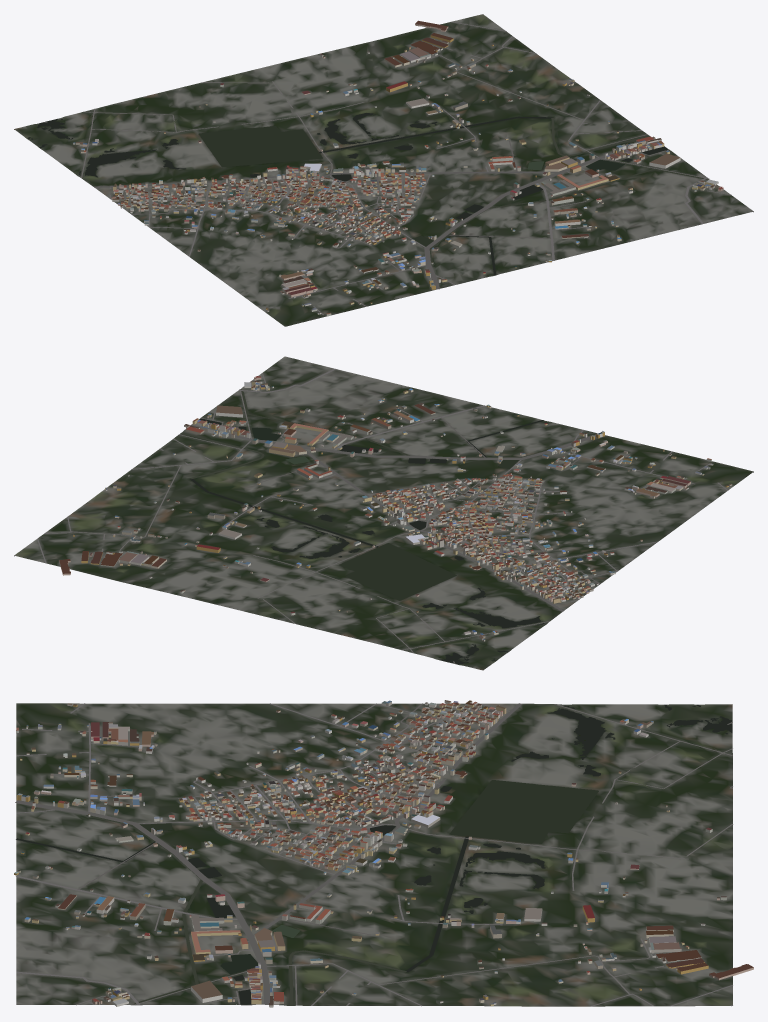
The picture shows the model from 3 angles, top to bottom: view 1: azimuth 30°, elevation 25°; view 2: azimuth 150°, elevation 25°; view 3: azimuth 270°, elevation 25°; orthographic projection. The views are drawn at different scales.
Parts seen in each view (by area): view 1: ground, buildings, water, roads; view 2: ground, buildings, water, roads; view 3: ground, buildings, water, roads.
Boxes of the visible parts, box(x1,y1,x2,y2) form: ground: box(14, 14, 753, 326); buildings: box(73, 20, 723, 316); water: box(27, 113, 708, 275); roads: box(42, 14, 731, 314); ground: box(14, 356, 753, 670); buildings: box(59, 376, 732, 641); water: box(180, 389, 553, 664); roads: box(14, 368, 728, 663); ground: box(16, 703, 732, 1006); buildings: box(14, 700, 753, 1007); water: box(16, 704, 732, 1005); roads: box(15, 703, 733, 1006).
Size of the model in its own units: 1417 by 24.18 by 1448.
